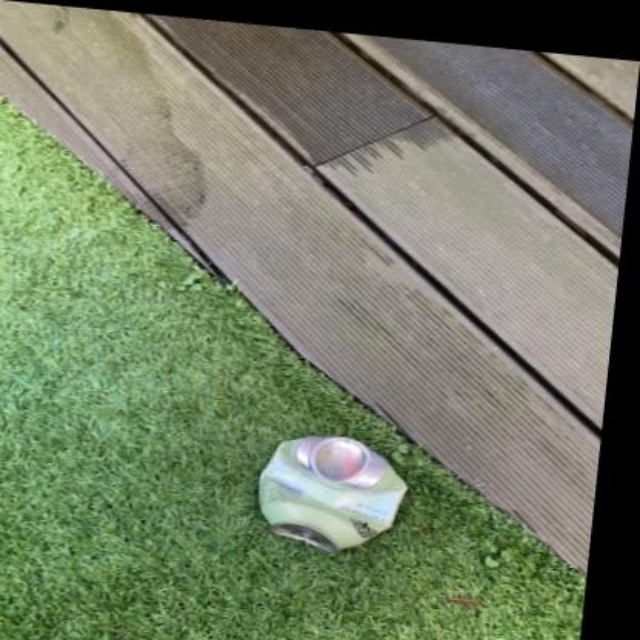trash: (258, 437, 406, 551)
